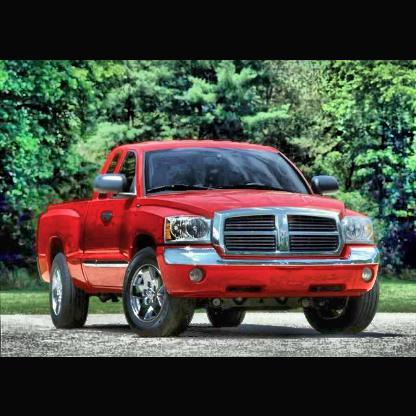Dodge Dakota Club Cab 2007: (36, 138, 382, 340)
